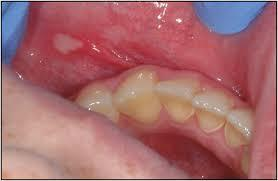Ulcer: (37, 24, 100, 72)
